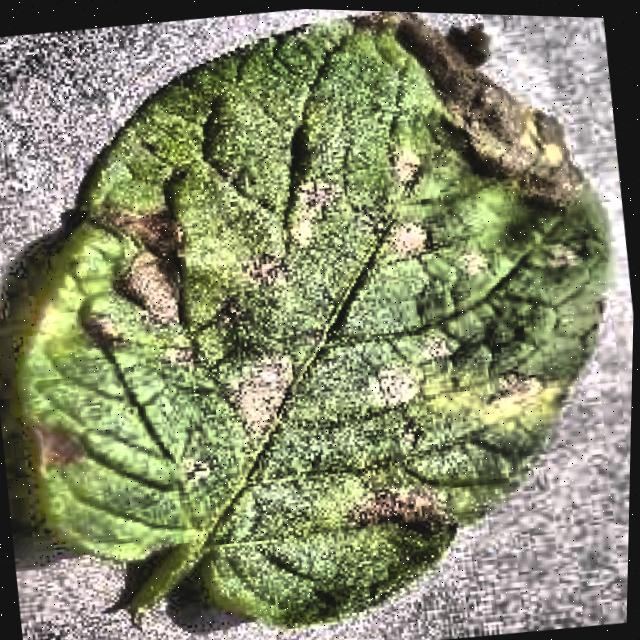Potato_leaf_early_blight: (25, 12, 612, 624)
